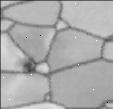good_void: (18, 54, 37, 74)
